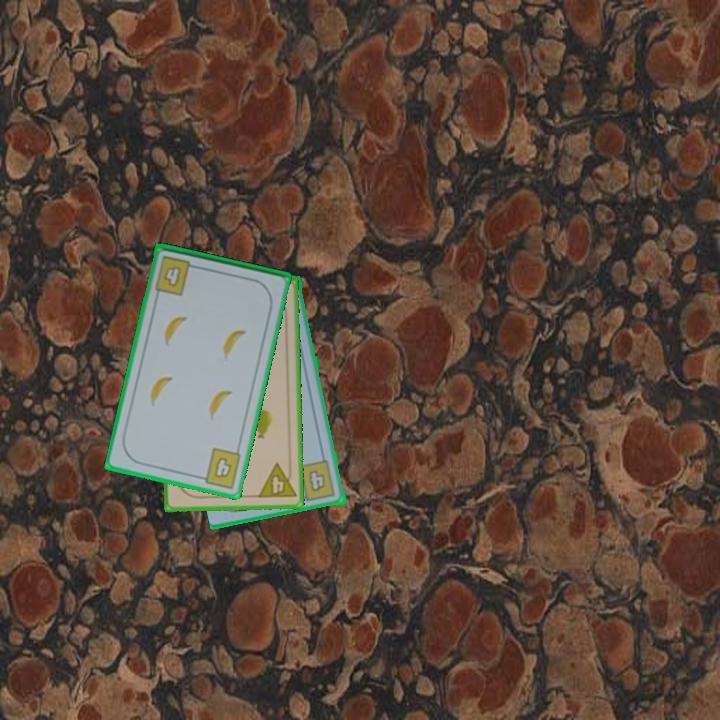4b: (194, 444, 244, 491), (151, 252, 201, 298), (296, 458, 339, 505)
4p: (254, 460, 299, 501)
